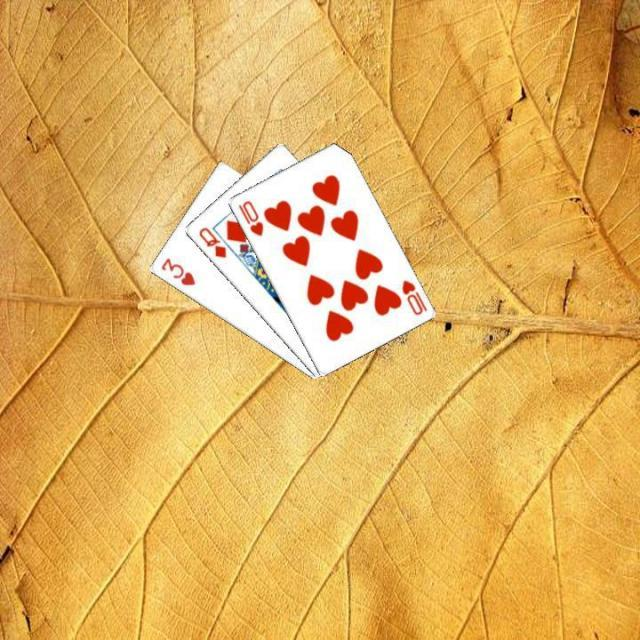10H: (234, 196, 265, 238), (398, 276, 428, 318)
3H: (156, 254, 196, 288)
QD: (195, 223, 228, 260)
